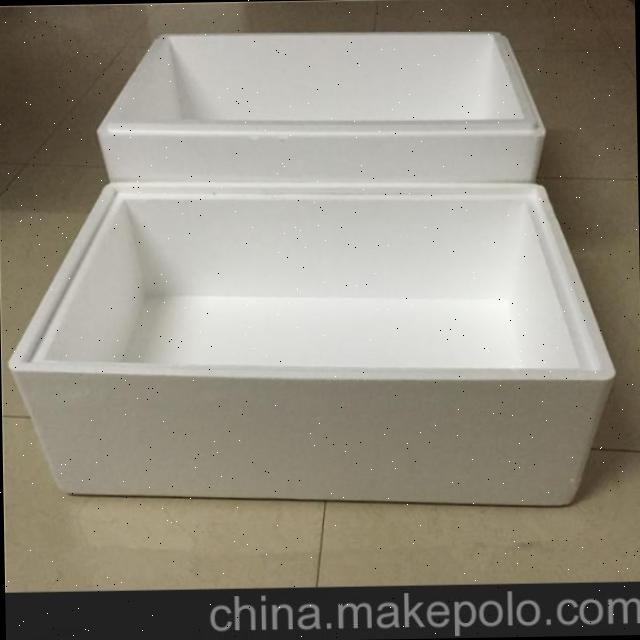styrofoam: (3, 170, 619, 516), (93, 23, 547, 188)
